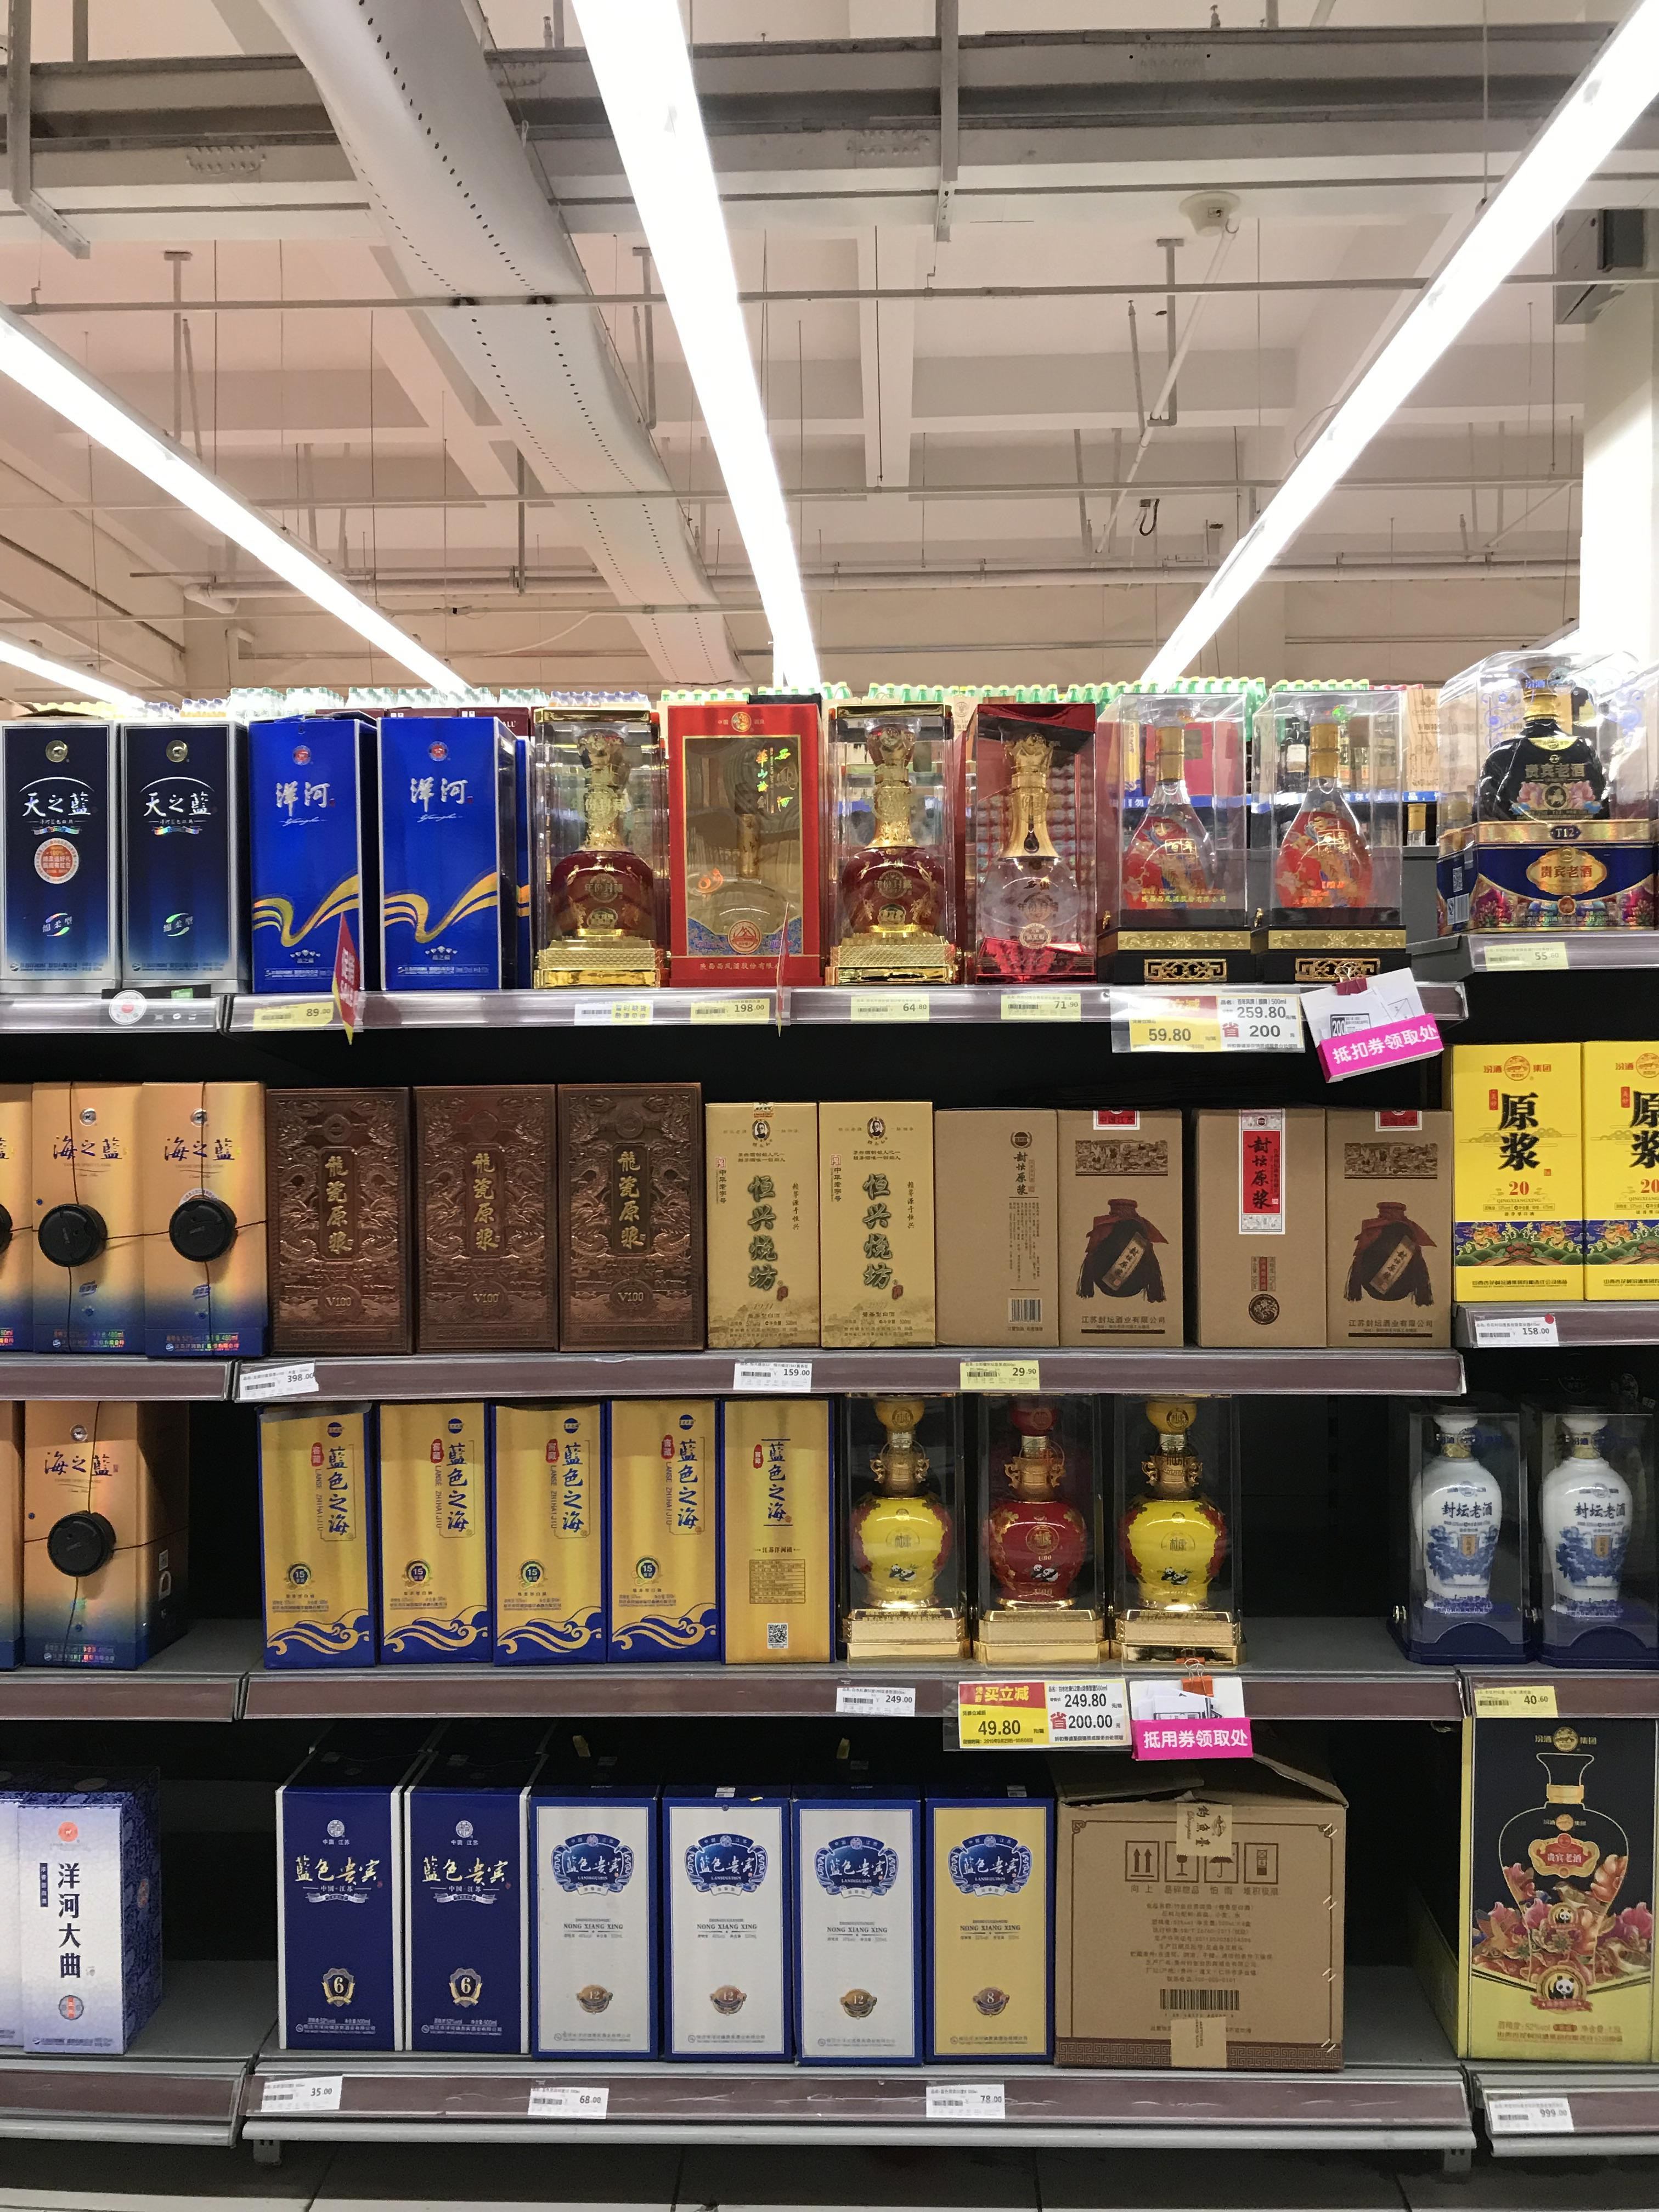bottle: (397, 1754, 537, 2060), (528, 1768, 662, 2064), (239, 693, 366, 1000), (115, 695, 235, 996), (978, 1381, 1103, 1662), (0, 681, 108, 1001), (528, 709, 653, 979), (857, 1393, 958, 1681), (1408, 1414, 1506, 1660), (1541, 1411, 1631, 1658), (1281, 690, 1370, 939), (1129, 700, 1209, 949), (1342, 688, 1401, 913)
box: (1450, 1716, 1656, 2090), (662, 698, 821, 991), (542, 1083, 706, 1345), (795, 1768, 929, 2085), (376, 707, 521, 998), (664, 1766, 802, 2067), (281, 1740, 408, 2066), (828, 702, 960, 993), (915, 1778, 1047, 2067), (958, 702, 1098, 974), (1324, 1113, 1467, 1372), (251, 1392, 382, 1674), (366, 1388, 491, 1674), (479, 1388, 603, 1672), (19, 1082, 141, 1367), (1192, 1101, 1326, 1359), (596, 1388, 716, 1667), (1060, 1108, 1194, 1357), (720, 1390, 836, 1669), (934, 1103, 1060, 1359), (819, 1101, 939, 1350), (708, 1101, 816, 1346), (1567, 1049, 1654, 1285)
jar: (1469, 662, 1659, 935), (17, 1385, 171, 1676), (410, 1078, 559, 1343), (136, 1087, 267, 1369), (1115, 1395, 1244, 1674)
others: (1063, 1750, 1351, 2088), (9, 1780, 162, 2060), (1452, 1049, 1570, 1292)
